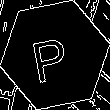P_N: (33, 27, 77, 83)
